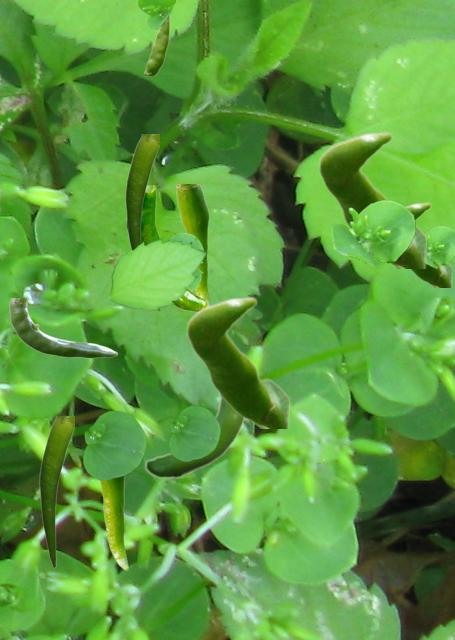green_chili: (318, 131, 425, 267), (186, 296, 288, 427), (126, 185, 207, 311), (144, 391, 246, 478), (9, 298, 116, 357), (39, 416, 73, 567), (176, 184, 210, 304), (406, 202, 451, 286), (125, 134, 158, 248), (98, 476, 127, 569), (144, 16, 169, 74)
